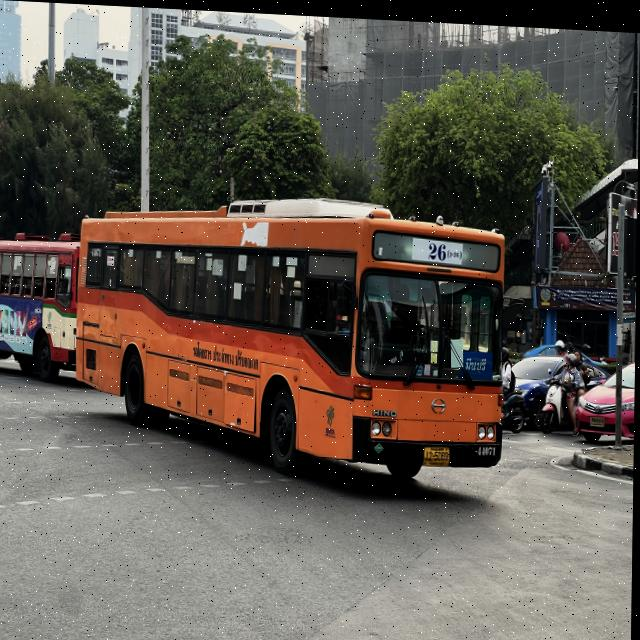BMTA-bus: (74, 178, 509, 494)
Bus Line Number: (412, 232, 463, 260)
Bus Side Number: (472, 437, 500, 454)
Destination Sign: (455, 345, 493, 375)
